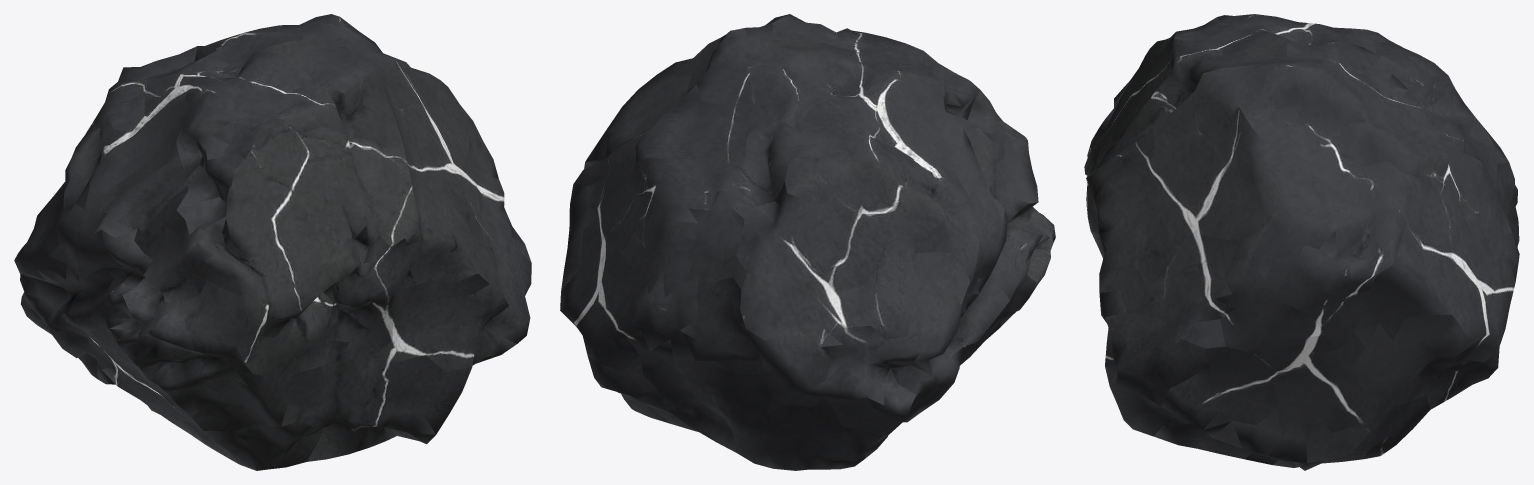
Rendered from moon-boulder.glb.
The picture shows the model from 3 angles, left to right: view 1: azimuth 30°, elevation 25°; view 2: azimuth 150°, elevation 25°; view 3: azimuth 270°, elevation 25°; orthographic projection. The views are drawn at different scales.
Bounding box in the file's own units: 1 × 0.9308 × 0.9708.
Materials: 1 (1 with a texture image).
